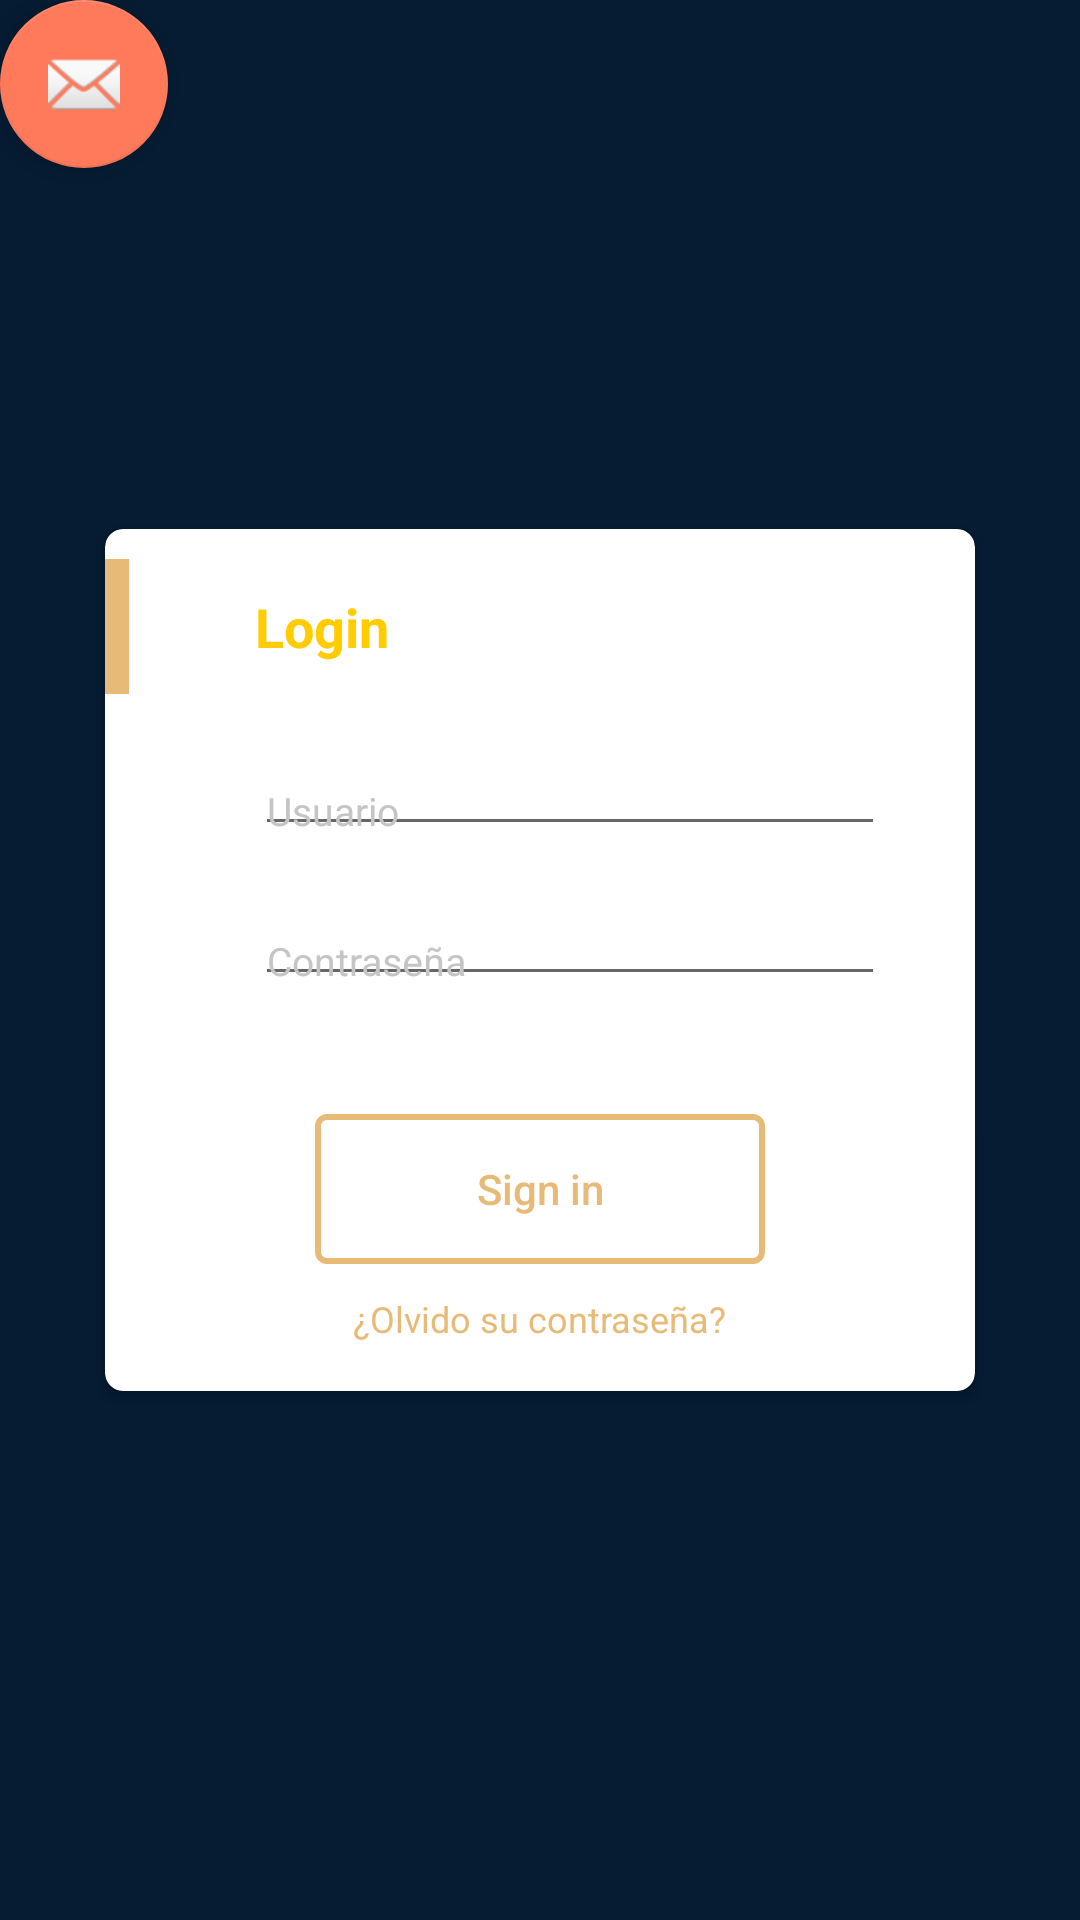

Where icons sit on this 1080w x 1920h app screen, as (x1, y1, x2, y2):
email: (0, 0, 168, 168)
